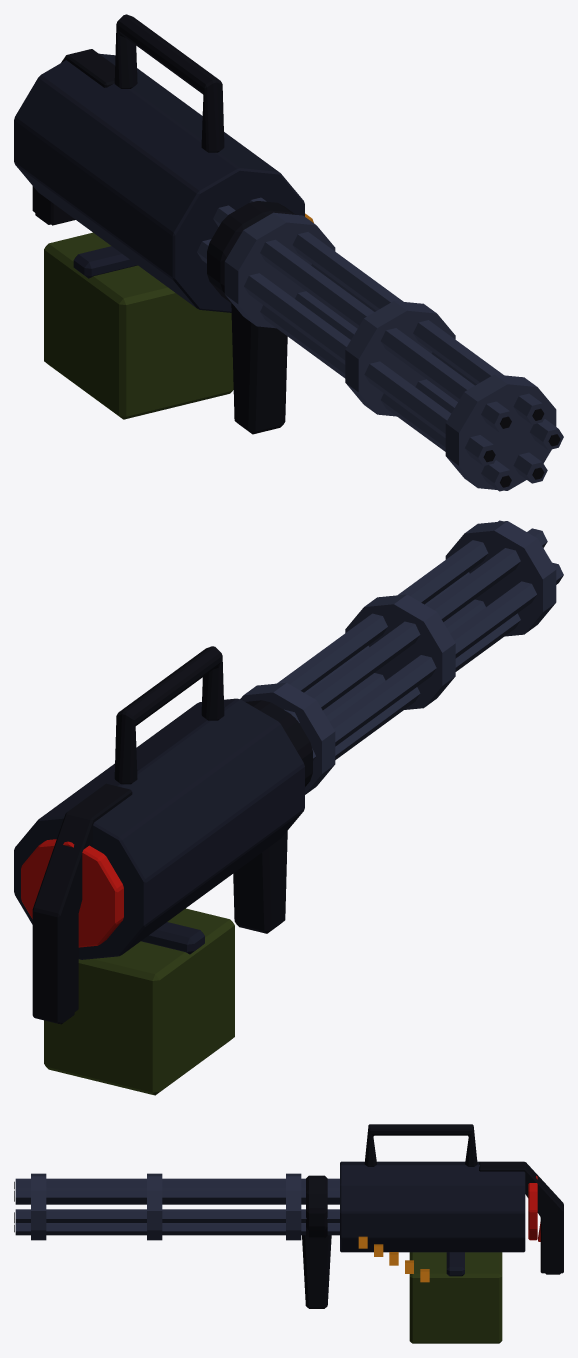
Rendered from myw_minigun.obj.
3 renders of one model, top to bottom at view 1: azimuth 30°, elevation 25°; view 2: azimuth 150°, elevation 25°; view 3: azimuth 270°, elevation 25°, orthographic. The views are drawn at different scales.
Visible parts, largest first — view 1: Body, Barrels, AmmoBox, Grip; view 2: Body, Barrels, AmmoBox, Grip; view 3: Body, Barrels, AmmoBox, Grip, Belt.
Boxes of the visible parts, box(x1,y1,x2,y2) form: Body: box(14, 14, 304, 312); Barrels: box(197, 197, 563, 491); AmmoBox: box(44, 232, 233, 419); Grip: box(207, 201, 295, 434); Body: box(14, 646, 304, 1024); Barrels: box(240, 520, 563, 794); AmmoBox: box(44, 908, 234, 1095); Grip: box(233, 700, 312, 933); Body: box(340, 1124, 563, 1274); Barrels: box(14, 1173, 339, 1240); AmmoBox: box(409, 1252, 502, 1343); Grip: box(302, 1175, 331, 1308); Belt: box(358, 1236, 429, 1282).
Size of the model in its own units: 0.6913 by 1.46 by 3.56.
